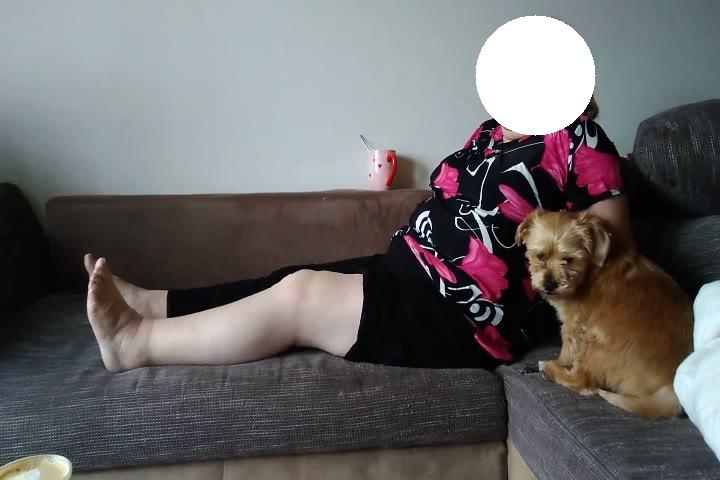lower_body: (78, 241, 513, 385)
